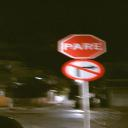NoVirarDireita: (54, 60, 112, 85)
Pare: (55, 29, 111, 61)
